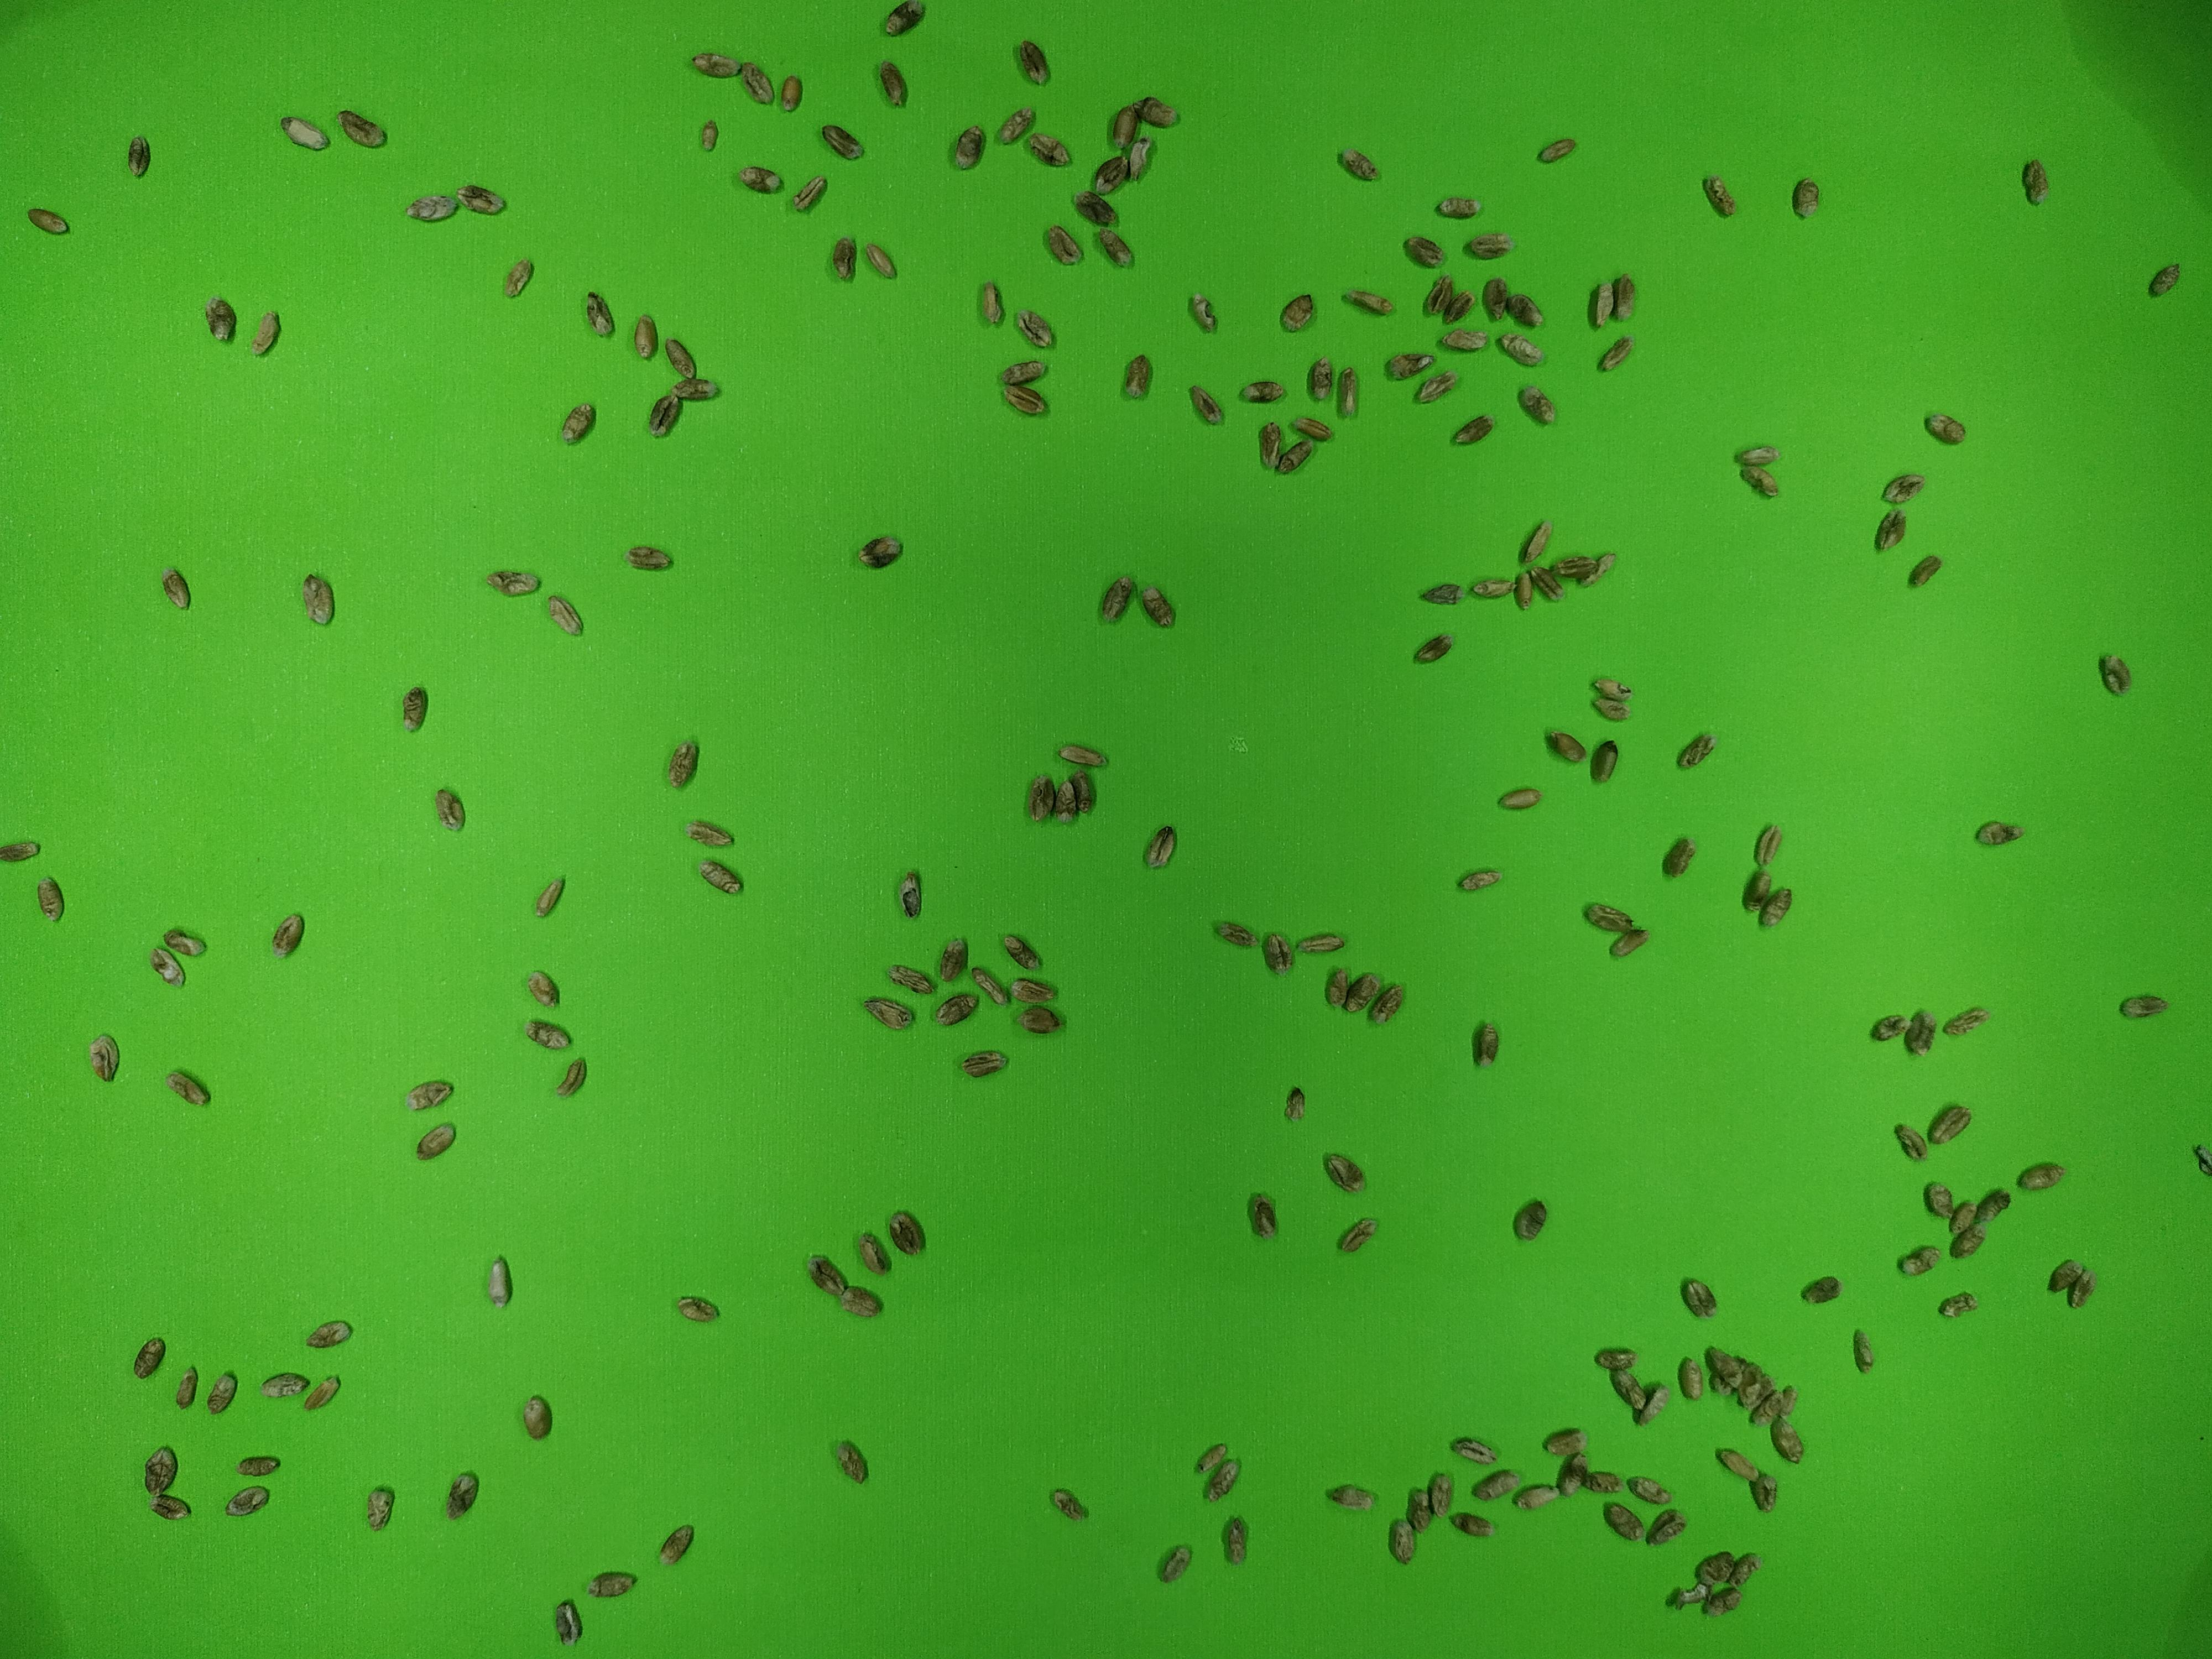danado: (1024, 771, 1060, 825), (1013, 36, 1051, 86), (1515, 383, 1559, 427), (1015, 305, 1057, 350), (1244, 1187, 1278, 1242), (300, 575, 336, 627), (1678, 1273, 1715, 1324), (1016, 1001, 1067, 1039), (582, 289, 615, 346), (203, 293, 238, 346), (1277, 290, 1318, 336), (482, 1257, 515, 1312), (1101, 575, 1135, 629), (1418, 1472, 1456, 1520), (1255, 415, 1288, 471), (278, 115, 328, 151), (541, 592, 583, 636), (2095, 651, 2133, 699), (899, 868, 932, 922), (874, 56, 907, 109), (1142, 825, 1180, 872), (1509, 1199, 1550, 1243), (20, 204, 72, 238), (839, 1285, 889, 1321), (887, 1207, 923, 1256), (1927, 1103, 1969, 1146), (1649, 1504, 1690, 1547), (1758, 886, 1798, 930), (561, 399, 597, 448), (1472, 1466, 1520, 1503), (1025, 132, 1073, 168), (520, 1392, 554, 1444), (1743, 865, 1777, 915), (974, 278, 1009, 328), (656, 1522, 695, 1568), (1322, 964, 1358, 1013), (1219, 1515, 1251, 1569), (148, 943, 186, 988), (1600, 1502, 1647, 1539), (1493, 333, 1546, 366), (1323, 1152, 1365, 1193), (1864, 1008, 1907, 1048), (132, 1334, 169, 1381), (524, 1015, 571, 1052), (667, 738, 700, 790), (1259, 931, 1298, 975), (1786, 174, 1822, 222), (166, 1069, 211, 1107), (1400, 233, 1444, 271), (952, 124, 986, 174), (1111, 97, 1141, 153), (1514, 522, 1556, 563), (119, 134, 154, 183), (1467, 1022, 1503, 1069), (1042, 222, 1081, 266), (396, 685, 430, 734), (526, 963, 560, 1012), (1139, 585, 1177, 629), (1907, 548, 1945, 593), (698, 858, 743, 895), (1922, 411, 1972, 445), (854, 1230, 889, 1278), (1694, 1550, 1740, 1587), (1413, 630, 1457, 669), (206, 1368, 238, 1418), (1747, 823, 1782, 871), (775, 70, 808, 120), (1092, 156, 1132, 197), (1735, 461, 1781, 497), (499, 255, 535, 301), (936, 935, 970, 983), (833, 1438, 867, 1486), (827, 232, 858, 285), (33, 876, 67, 925), (1386, 1516, 1418, 1568), (739, 59, 774, 106), (805, 1256, 845, 1296), (1527, 565, 1568, 606), (999, 930, 1039, 971), (1416, 368, 1458, 406), (958, 1048, 1008, 1081), (252, 311, 285, 359), (1371, 978, 1405, 1026), (1587, 736, 1621, 784), (1186, 383, 1223, 426), (866, 994, 909, 1031), (1346, 968, 1383, 1011), (1545, 729, 1589, 766), (1610, 268, 1643, 317), (1204, 1459, 1241, 1503), (235, 1448, 282, 1483), (457, 181, 502, 217), (1734, 1373, 1775, 1412), (1196, 1437, 1233, 1480), (1545, 1425, 1588, 1462), (1608, 1367, 1646, 1410), (1707, 1352, 1750, 1389), (664, 333, 697, 381), (272, 912, 304, 961), (430, 785, 463, 833), (1129, 95, 1179, 127), (1095, 226, 1134, 267), (1767, 1422, 1806, 1463), (1073, 185, 1111, 227), (1922, 1180, 1958, 1223), (300, 1374, 346, 1408), (257, 1370, 309, 1400), (687, 51, 739, 81), (859, 536, 904, 571), (1881, 469, 1923, 507), (1744, 1469, 1781, 1511), (447, 1472, 477, 1524), (1239, 375, 1285, 409), (1633, 1383, 1668, 1426), (1424, 280, 1464, 319), (1337, 1218, 1381, 1253), (408, 191, 452, 226), (1121, 352, 1151, 405), (1404, 1486, 1434, 1537), (1004, 382, 1047, 418), (1007, 975, 1055, 1007), (624, 542, 672, 575), (649, 393, 682, 439), (998, 106, 1036, 145), (936, 989, 977, 1027), (1675, 731, 1716, 768), (1700, 175, 1736, 217), (1716, 1446, 1758, 1481), (145, 1448, 179, 1493), (1432, 192, 1483, 222), (2144, 261, 2183, 299), (1897, 1243, 1941, 1277), (2017, 1160, 2063, 1192), (1584, 281, 1621, 322), (365, 1481, 394, 1533), (2018, 158, 2052, 202), (489, 570, 540, 599), (1849, 1325, 1878, 1376), (1970, 820, 2021, 849), (1659, 839, 1695, 880), (736, 165, 782, 197), (1214, 919, 1259, 951), (1901, 1011, 1939, 1051), (341, 112, 381, 149), (1069, 766, 1098, 817), (1383, 349, 1426, 383), (822, 121, 858, 162), (588, 1568, 635, 1599), (1305, 354, 1335, 402), (1890, 1124, 1928, 1162), (885, 0, 923, 38), (306, 1317, 352, 1349), (1479, 275, 1512, 319), (405, 1078, 451, 1109), (88, 1031, 118, 1079), (1333, 367, 1363, 415), (161, 563, 191, 612), (1126, 132, 1156, 181), (1338, 148, 1380, 182), (1058, 739, 1104, 770), (1609, 921, 1646, 959), (418, 1122, 456, 1160), (1276, 440, 1314, 477), (790, 176, 827, 215), (2065, 1267, 2099, 1310), (1944, 1007, 1990, 1039), (1159, 1543, 1194, 1583), (684, 818, 731, 848), (1703, 1582, 1744, 1616), (1875, 509, 1905, 555), (1467, 230, 1515, 259), (554, 1596, 581, 1646), (1747, 1389, 1783, 1427), (1048, 1485, 1088, 1520), (860, 242, 900, 278), (555, 1059, 587, 1102), (1325, 1484, 1374, 1512), (1496, 785, 1542, 815), (1533, 136, 1578, 167), (1593, 1346, 1636, 1378), (227, 1484, 269, 1517), (1556, 1455, 1588, 1498), (1583, 552, 1620, 589), (1344, 287, 1391, 316), (1595, 337, 1633, 373), (1726, 1549, 1761, 1588), (1291, 414, 1333, 446), (1937, 1290, 1977, 1323), (1001, 359, 1046, 389), (1449, 1510, 1493, 1541), (886, 963, 932, 992), (1678, 1354, 1704, 1404), (1453, 415, 1496, 446), (1949, 1198, 1985, 1235), (969, 964, 1005, 1002), (2120, 992, 2168, 1019), (1190, 287, 1215, 338), (1799, 1272, 1839, 1305), (677, 1292, 717, 1324), (148, 1493, 192, 1522), (632, 311, 658, 363), (1418, 580, 1462, 609), (533, 878, 565, 918), (0, 836, 43, 866), (1583, 902, 1626, 932), (1450, 1436, 1493, 1465), (1504, 293, 1542, 326), (1298, 930, 1345, 957), (1594, 671, 1634, 703), (1584, 1466, 1626, 1495), (1457, 864, 1500, 893), (1734, 442, 1782, 468), (1280, 1080, 1309, 1122), (172, 1369, 201, 1411), (1556, 552, 1601, 580), (1627, 1476, 1671, 1504), (1776, 1379, 1802, 1425), (1976, 1188, 2011, 1222), (160, 929, 205, 956), (676, 374, 716, 404), (1950, 1226, 1987, 1258), (1467, 575, 1512, 601), (1668, 1583, 1709, 1612), (2047, 1262, 2083, 1295), (1590, 695, 1633, 722), (1511, 1485, 1557, 1511), (1517, 566, 1540, 615), (1441, 293, 1475, 325), (1442, 330, 1488, 353), (1063, 771, 1081, 831), (699, 113, 724, 153)
